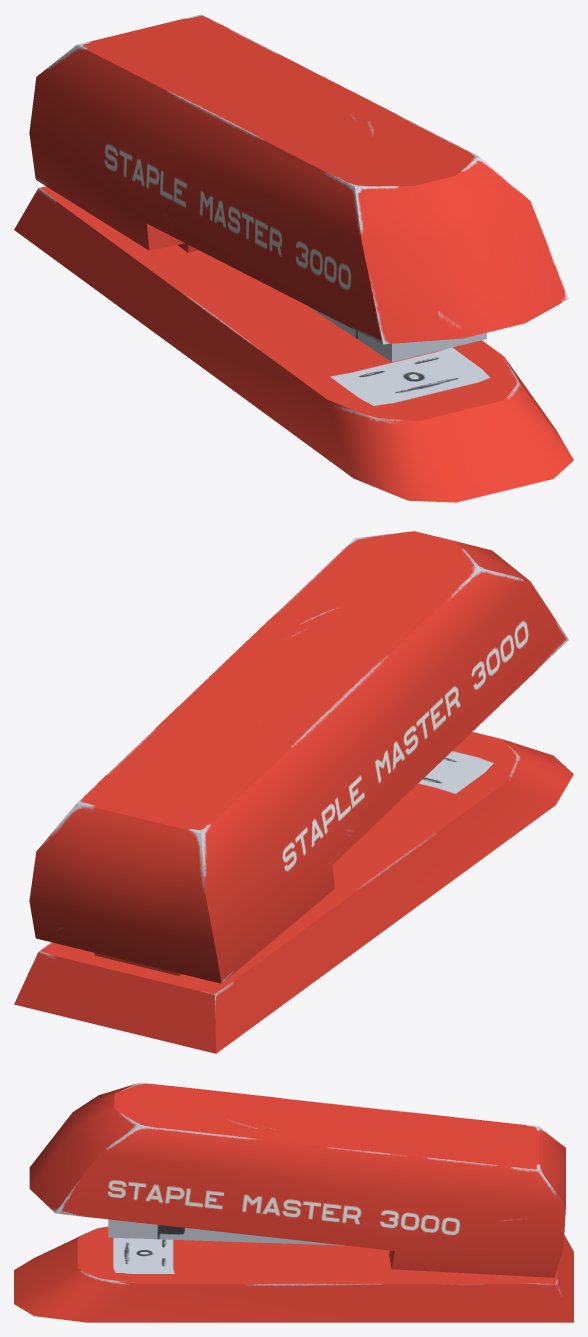
The model's file is Stapler.fbx.
3 views of the same model, one above another, from view 1: azimuth 30°, elevation 25°; view 2: azimuth 150°, elevation 25°; view 3: azimuth 270°, elevation 25° (orthographic). The views are drawn at different scales.
Parts seen in each view (by area): view 1: pCube33; view 2: pCube33; view 3: pCube33.
Part boxes in pixels (left/top/right/bottom): pCube33: left=14, top=14, right=573, bottom=502; pCube33: left=14, top=531, right=573, bottom=1053; pCube33: left=14, top=1082, right=573, bottom=1322.
Size of the model in its own units: 7.42 by 9.08 by 24.81.
Materials: 1 (1 with a texture image).
